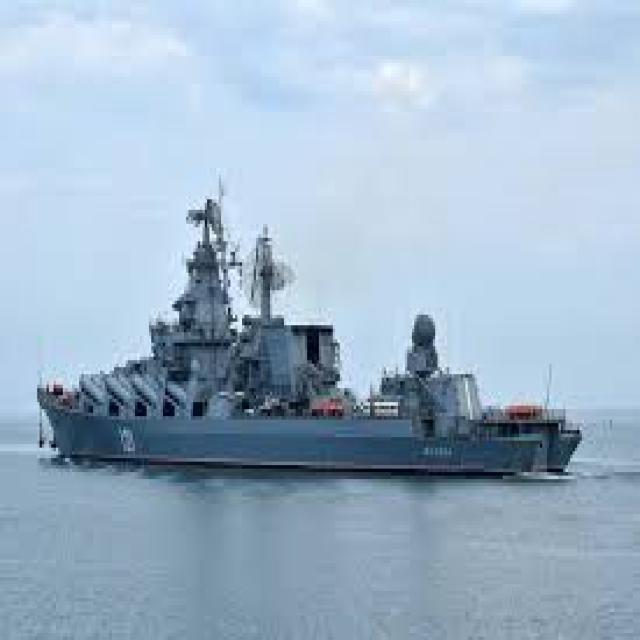navalvessels: (35, 182, 612, 493)
